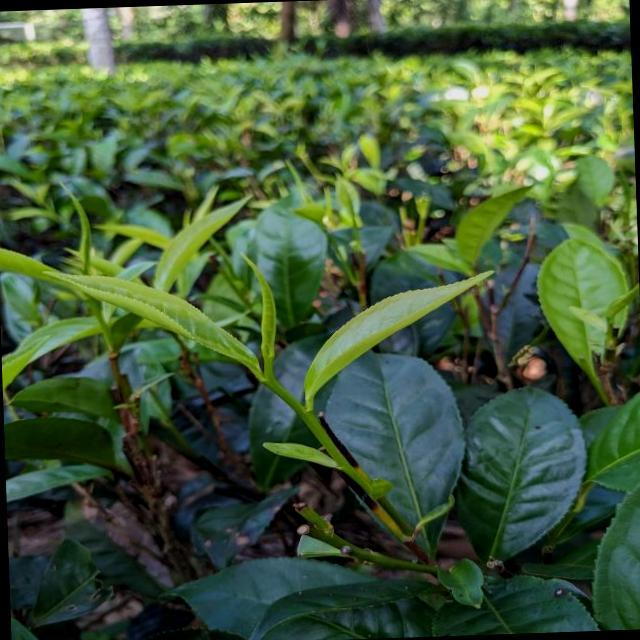Stem: (264, 375, 273, 385)
